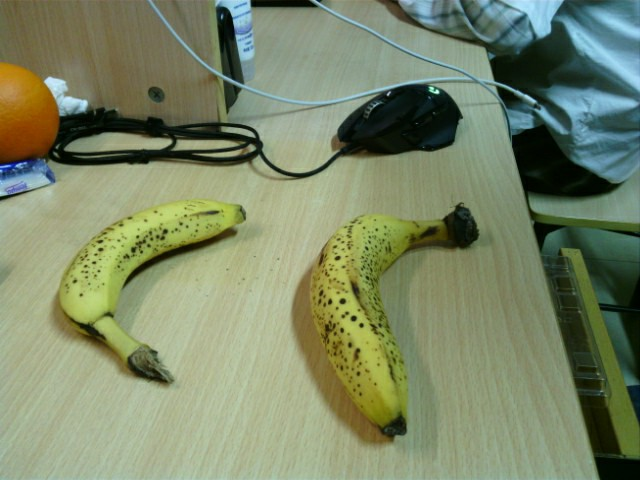normal_banana: (308, 203, 479, 438), (60, 199, 245, 385)
